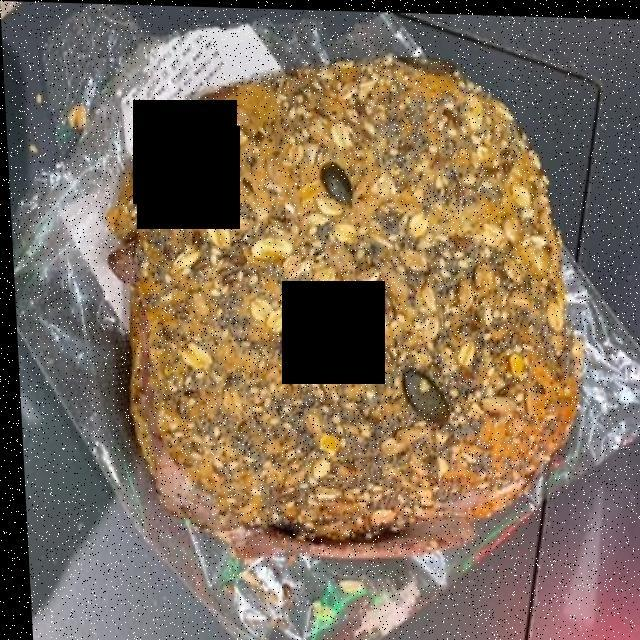bread: (125, 36, 580, 561)
